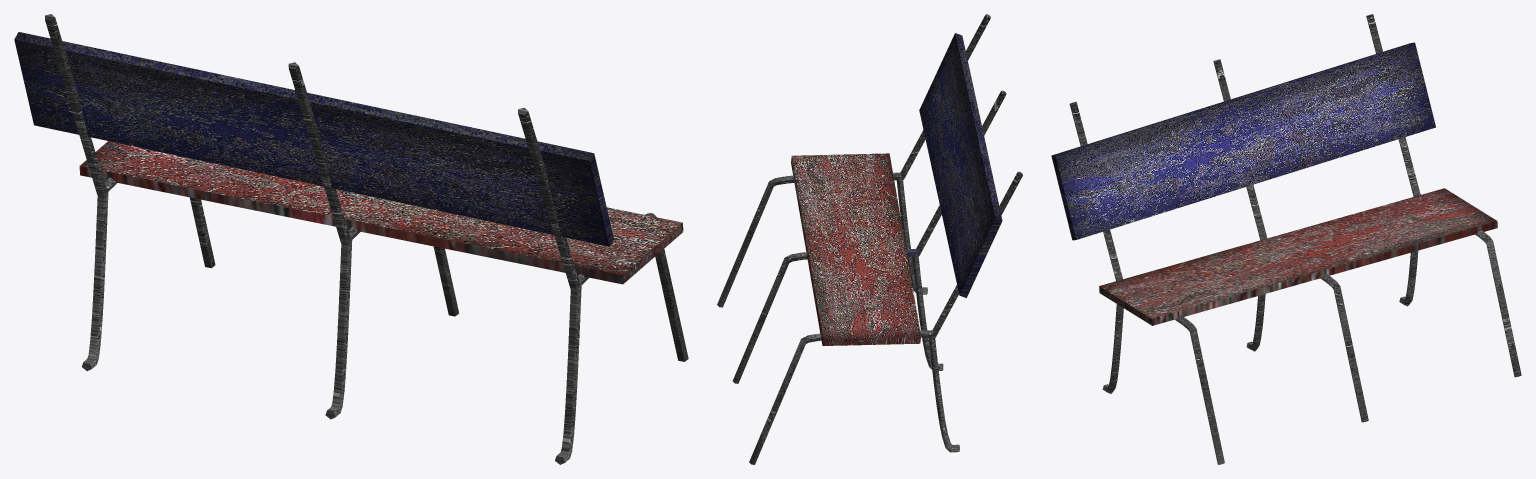
The model's file is Bench01.FBX.
The picture shows the model from 3 angles, left to right: view 1: azimuth 30°, elevation 25°; view 2: azimuth 150°, elevation 25°; view 3: azimuth 270°, elevation 25°; orthographic projection. The views are drawn at different scales.
Parts seen in each view (by area): view 1: bench02; view 2: bench02; view 3: bench02.
Boxes of the visible parts, <box> form: bench02: <box>14,14,688,464</box>; bench02: <box>717,14,1022,464</box>; bench02: <box>1051,14,1521,464</box>.
Size of the model in its own units: 54.36 by 38.28 by 59.73.
